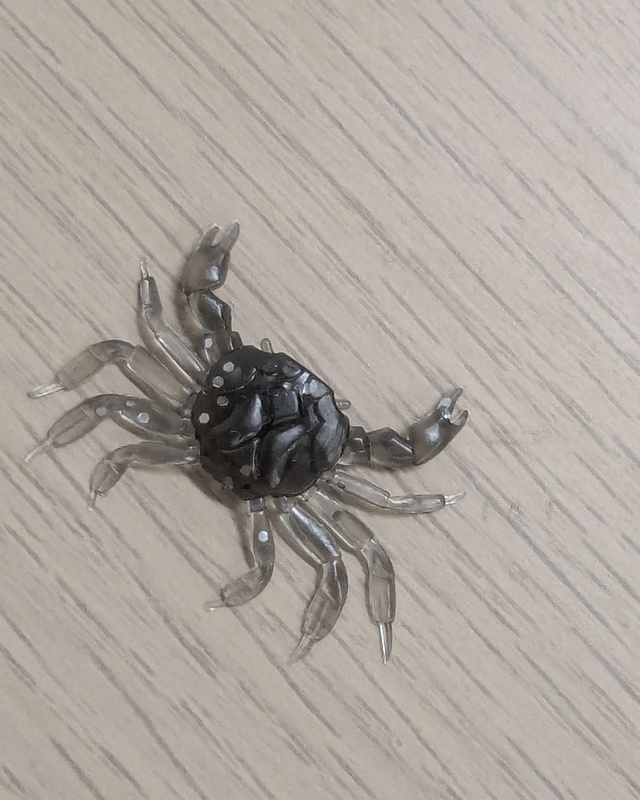crab1: (24, 220, 474, 672)
